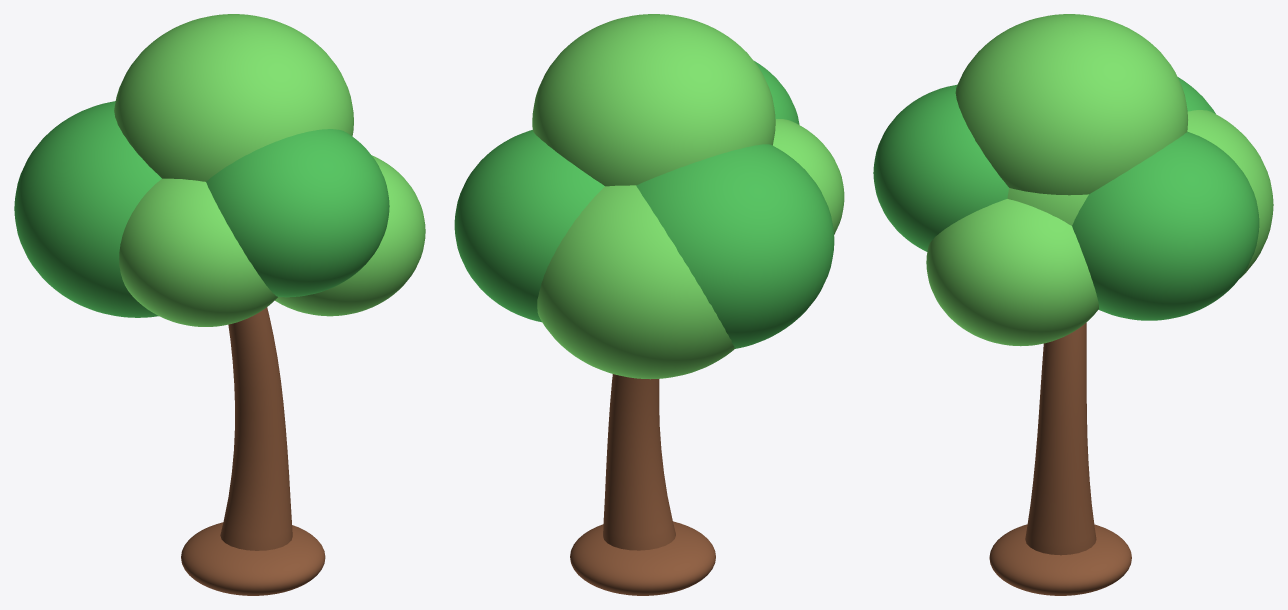
File: tree.glb
3 renders of one model, left to right at view 1: azimuth 30°, elevation 25°; view 2: azimuth 150°, elevation 25°; view 3: azimuth 270°, elevation 25°, orthographic. The views are drawn at different scales.
Parts seen in each view (by area): view 1: LeafTop, Leaf5, Leaf3, Leaf4, Trunk, Leaf6, Roots; view 2: LeafTop, Leaf3, Leaf2, Leaf1, Trunk, Roots, Leaf4, Leaf5; view 3: LeafTop, Leaf1, Leaf6, Leaf5, Trunk, Roots, Leaf2, Leaf0, Leaf3.
Part boxes in pixels (bbox=[...]): LeafTop: bbox=[114, 14, 353, 181]; Leaf5: bbox=[206, 129, 389, 297]; Leaf3: bbox=[14, 101, 161, 317]; Leaf4: bbox=[119, 178, 277, 326]; Trunk: bbox=[220, 307, 292, 550]; Leaf6: bbox=[275, 155, 425, 316]; Roots: bbox=[181, 522, 325, 595]; LeafTop: bbox=[532, 14, 775, 186]; Leaf3: bbox=[636, 144, 834, 348]; Leaf2: bbox=[537, 185, 734, 379]; Leaf1: bbox=[454, 130, 604, 322]; Trunk: bbox=[603, 374, 675, 550]; Roots: bbox=[570, 521, 715, 595]; Leaf4: bbox=[773, 119, 844, 234]; Leaf5: bbox=[753, 60, 799, 124]; LeafTop: bbox=[955, 14, 1187, 195]; Leaf1: bbox=[1072, 131, 1259, 320]; Leaf6: bbox=[926, 199, 1098, 346]; Leaf5: bbox=[873, 85, 1008, 251]; Trunk: bbox=[1025, 322, 1096, 555]; Roots: bbox=[989, 524, 1131, 595]; Leaf2: bbox=[1187, 110, 1273, 278]; Leaf0: bbox=[1007, 188, 1088, 225]; Leaf3: bbox=[1178, 77, 1215, 113].
Size of the model in its own units: 2.22 by 3.5 by 2.32.
